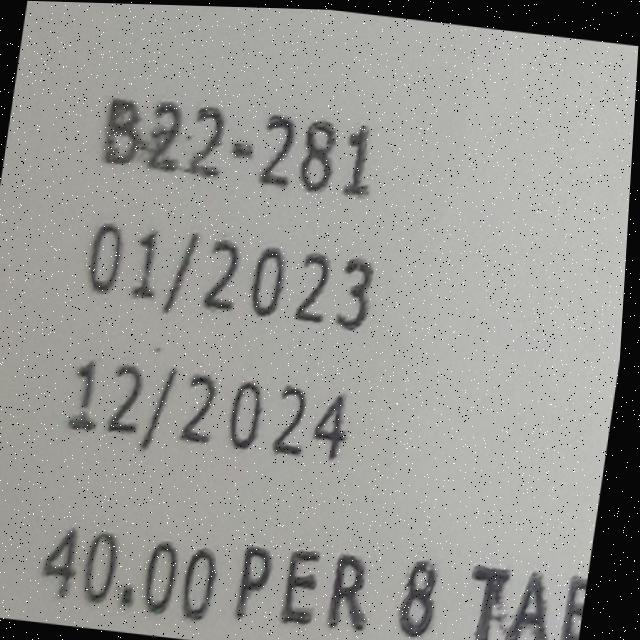sentence: (47, 522, 594, 640), (85, 220, 377, 330), (69, 351, 353, 459), (105, 96, 371, 194)
